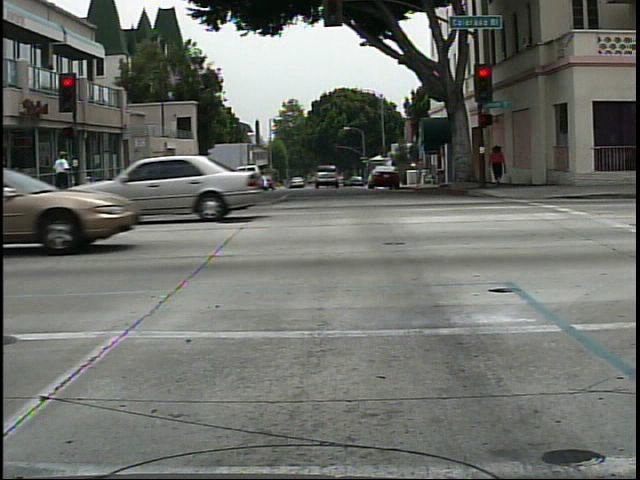person: (47, 143, 75, 193), (488, 139, 510, 191)
